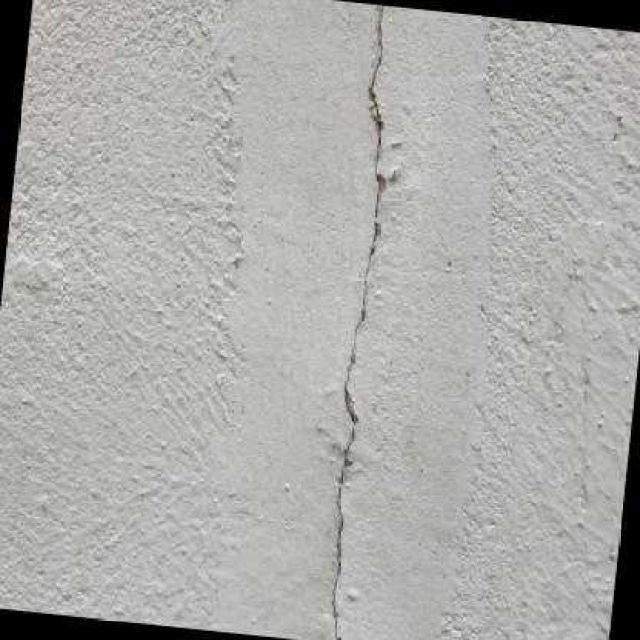D00: (329, 4, 390, 640)
